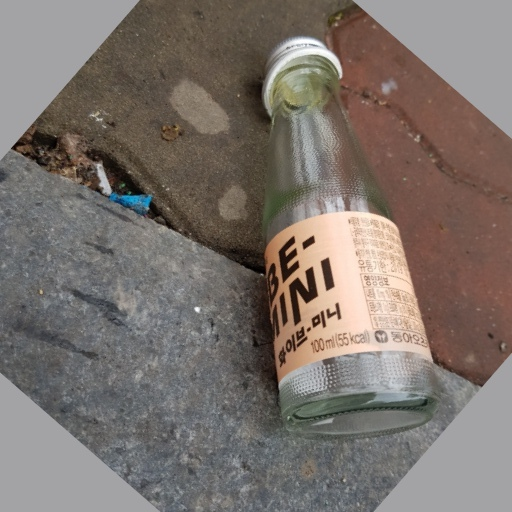Glass_4: (255, 33, 438, 444)
